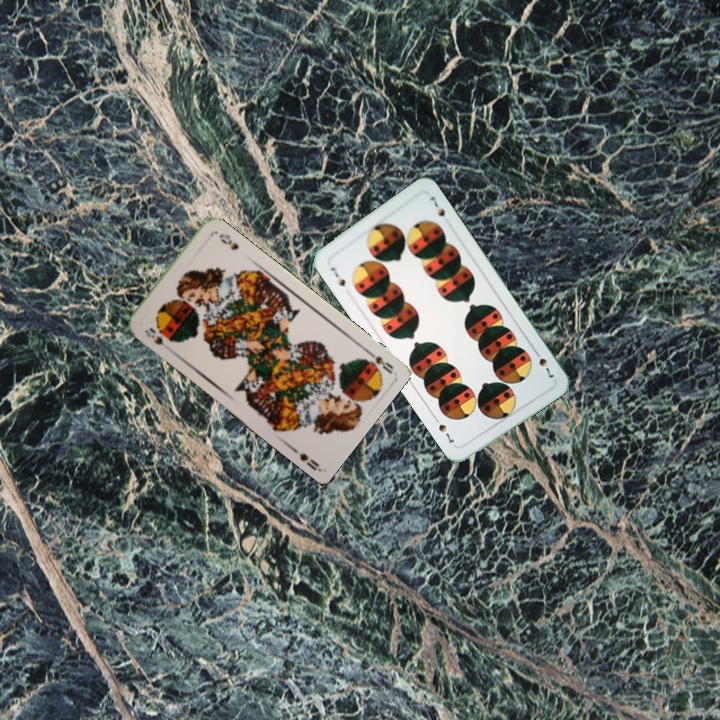S7: (530, 346, 556, 380), (326, 263, 348, 289)
SO: (361, 344, 396, 376), (141, 324, 175, 348)
